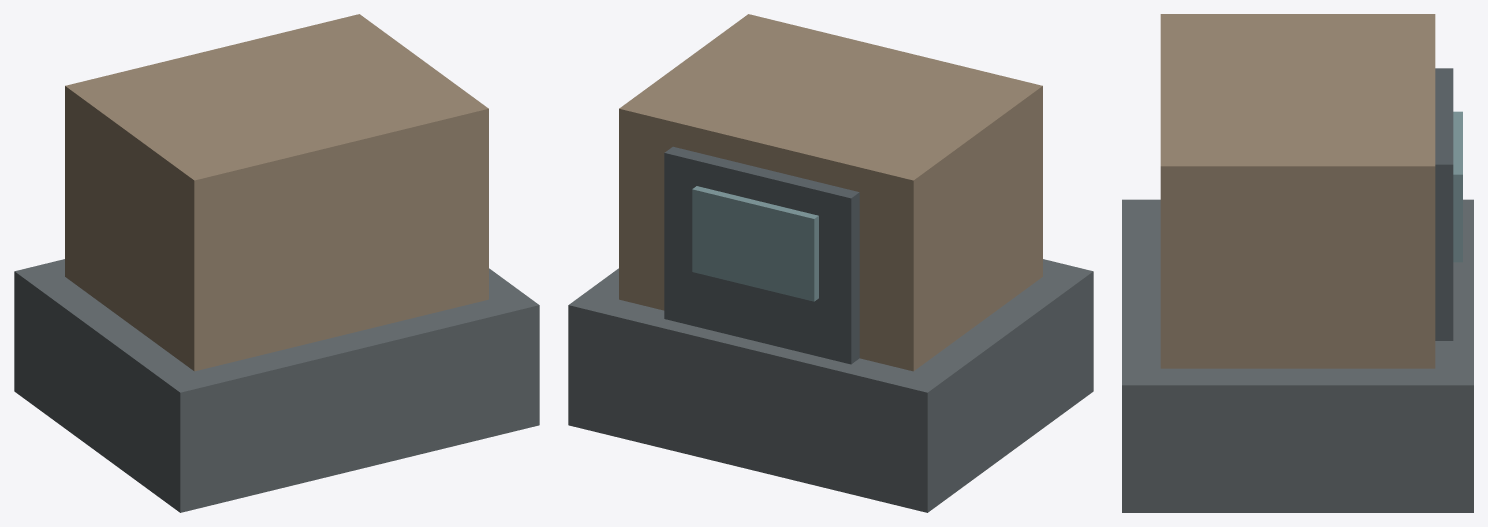
File: iz3_health_autoclave_02.glb
3 renders of one model, left to right at view 1: azimuth 30°, elevation 25°; view 2: azimuth 150°, elevation 25°; view 3: azimuth 270°, elevation 25°, orthographic. The views are drawn at different scales.
Parts seen in each view (by area): view 1: cabinet, base; view 2: cabinet, base, panel, display; view 3: cabinet, base, panel, display.
Boxes of the visible parts, box(x1,y1,x2,y2) form: cabinet: box(65, 14, 488, 371); base: box(14, 259, 539, 512); cabinet: box(619, 14, 1042, 371); base: box(568, 259, 1093, 512); panel: box(664, 146, 859, 364); display: box(692, 186, 818, 301); cabinet: box(1160, 14, 1435, 368); base: box(1122, 199, 1473, 512); panel: box(1435, 68, 1453, 340); display: box(1453, 111, 1462, 262).
Bounding box in the file's own units: 1 × 0.828 × 0.8.
